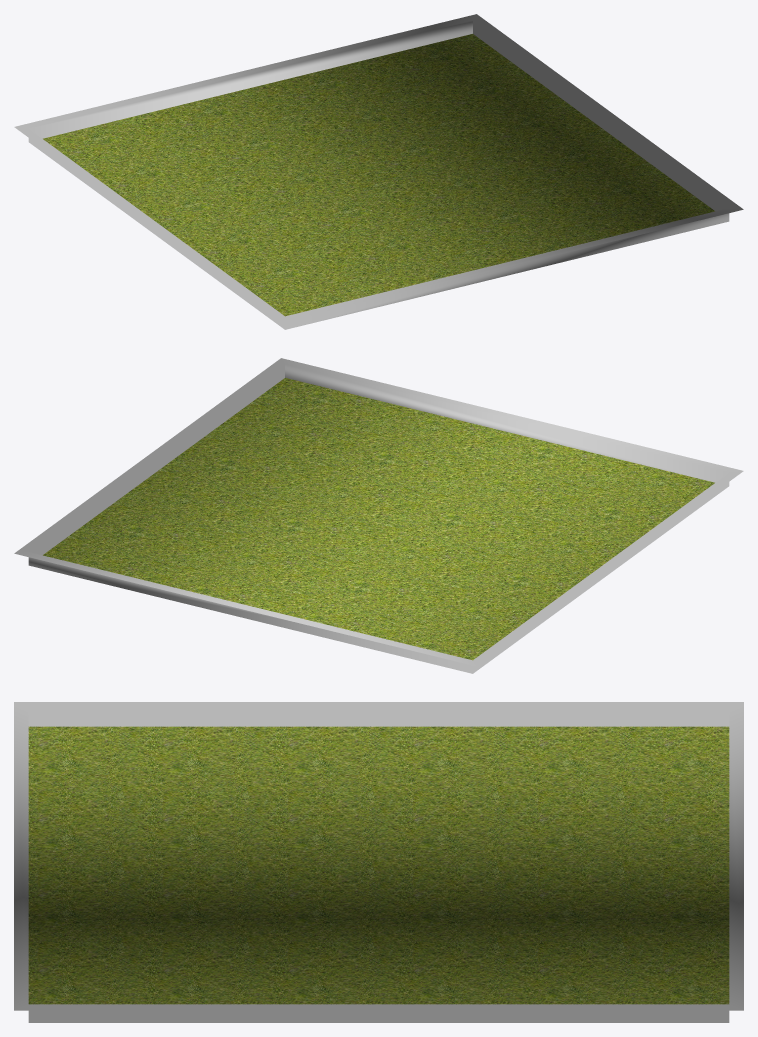
3 renders of one model, top to bottom at view 1: azimuth 30°, elevation 25°; view 2: azimuth 150°, elevation 25°; view 3: azimuth 270°, elevation 25°, orthographic. The views are drawn at different scales.
Parts seen in each view (by area): view 1: Tb_w (2); view 2: Tb_w (2); view 3: Tb_w (2).
Boxes of the visible parts, left/top/right/bottom form: Tb_w (2): left=14, top=14, right=743, bottom=329; Tb_w (2): left=14, top=358, right=743, bottom=673; Tb_w (2): left=14, top=702, right=743, bottom=1022.
Size of the model in its own units: 1000 by 28 by 1000.
